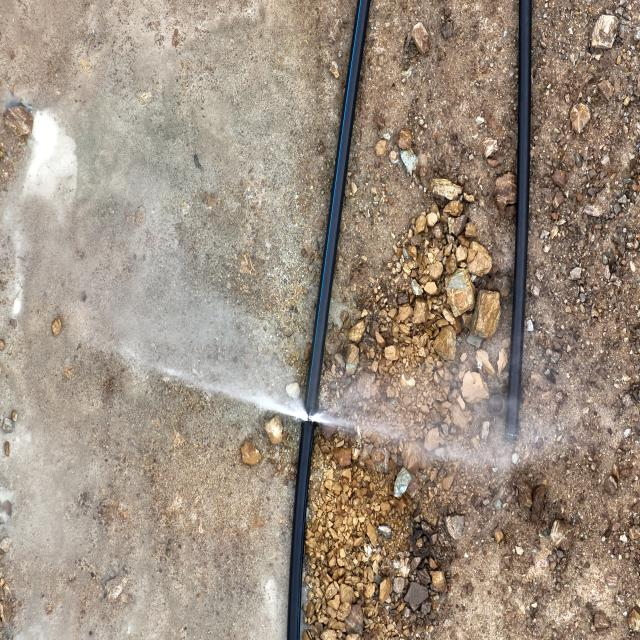leak: (95, 301, 577, 476)
